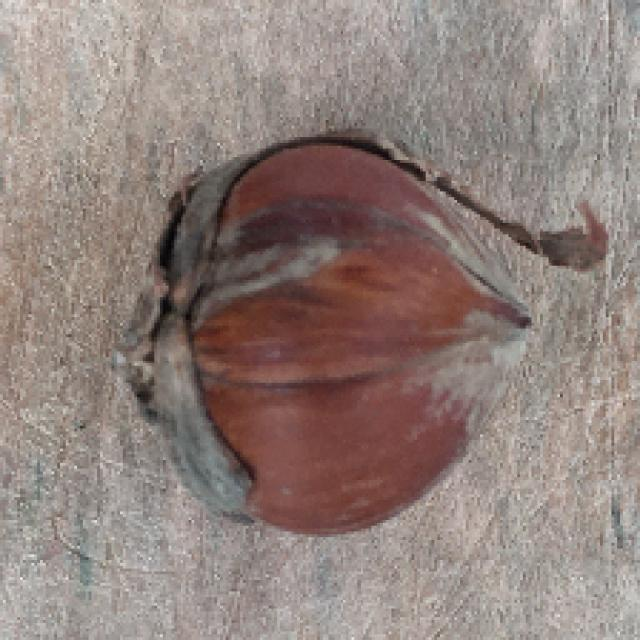damagedHazelnut: (123, 123, 528, 552)
